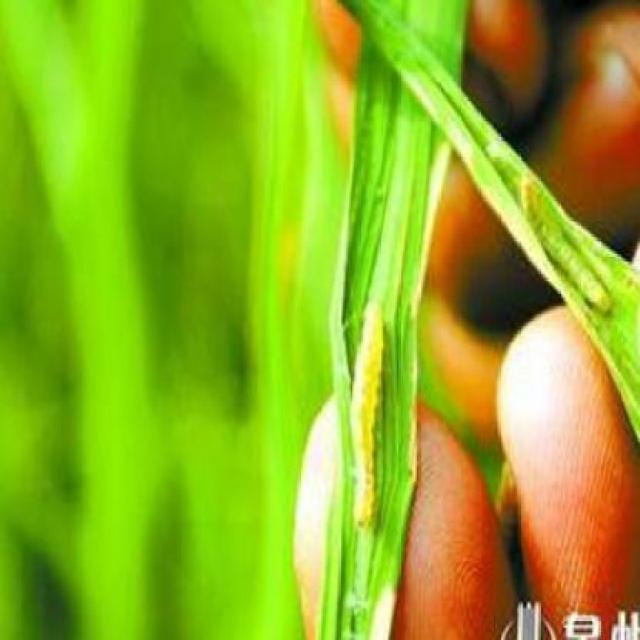leaf-folder: (508, 158, 630, 325), (328, 292, 399, 539)
